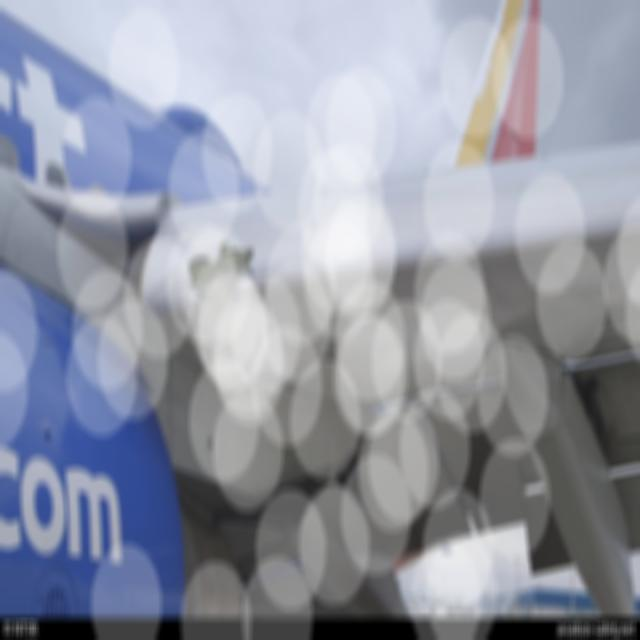crack: (191, 244, 262, 311)
